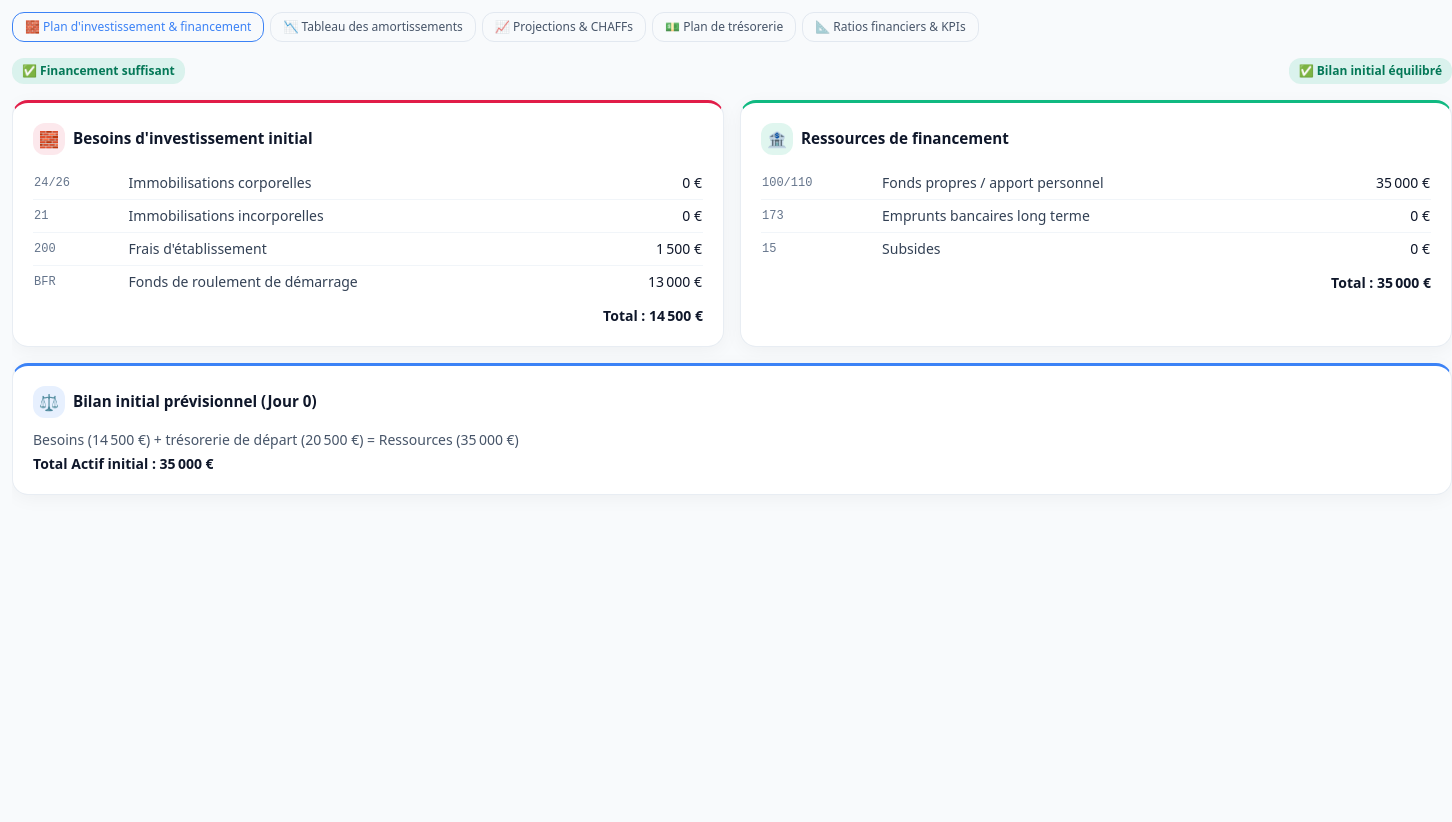
TfeFeasibilityPanel / the tabs › switches to the Partie 2 tabs: CHAFFs, cash-flow, ratios & KPIs
Click the tab with test id "tfe-tab-chaffs".
click(564, 27)  # box [482,12,646,42]
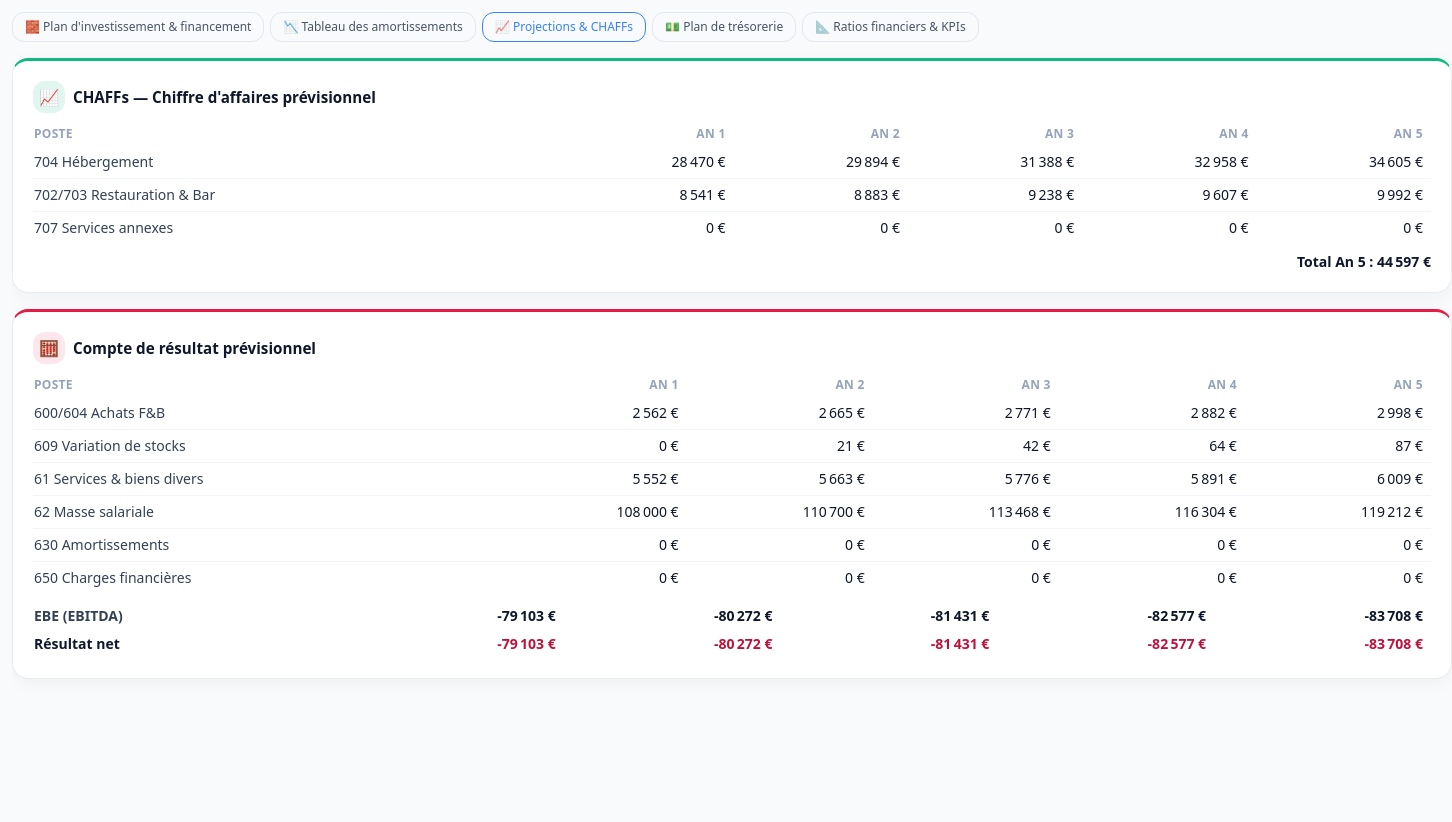
Expected: the element with test id "tfe-chaffs-card" is shown, [12,58,1451,293]
Click the tab with test id "tfe-tab-cashflow".
click(724, 27)  # box [652,12,796,42]
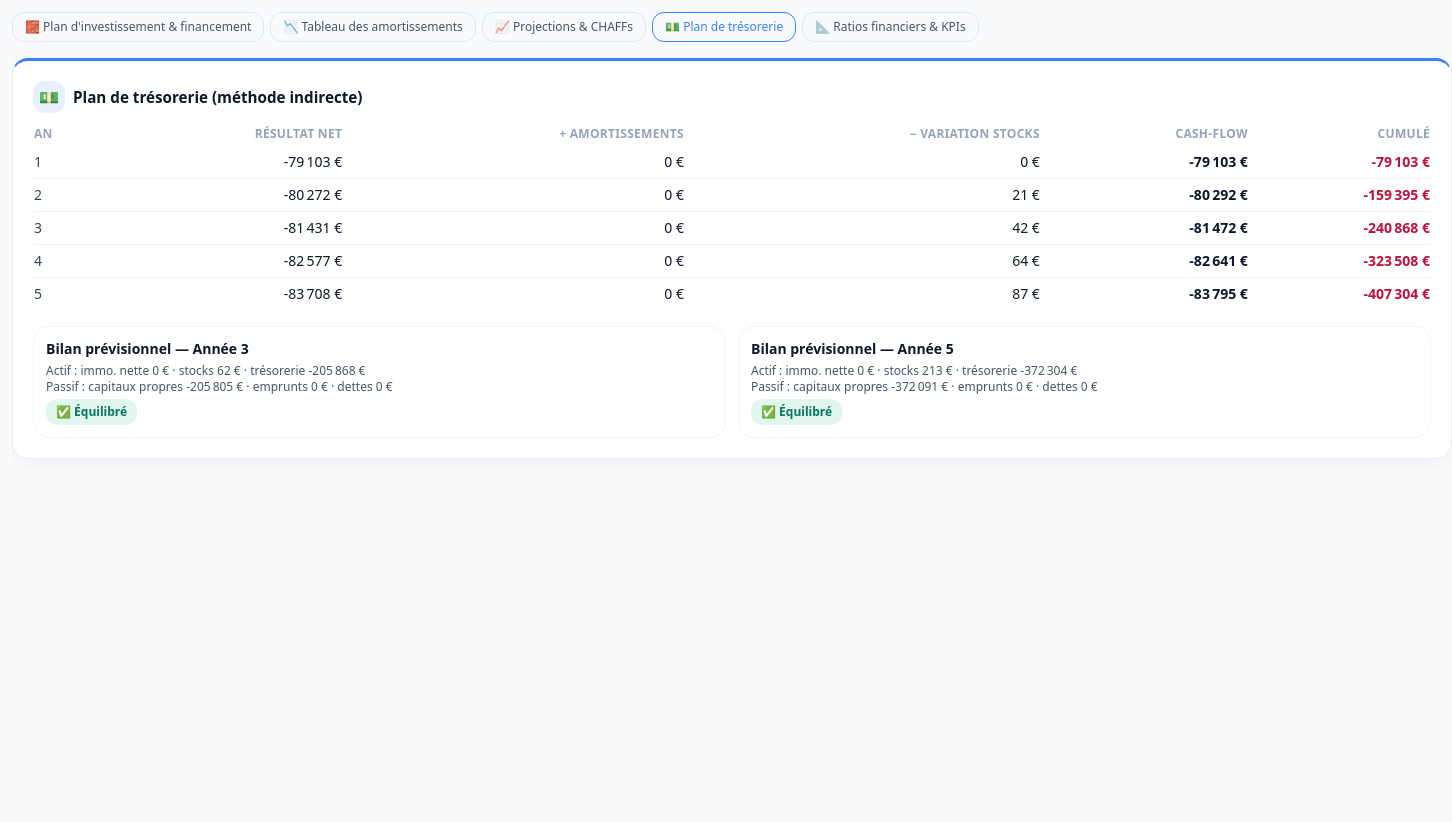
Expected: the element with test id "tfe-cashflow-card" is shown, [12,58,1451,459]
Click the tab with test id "tfe-tab-ratios".
click(890, 27)  # box [802,12,979,42]
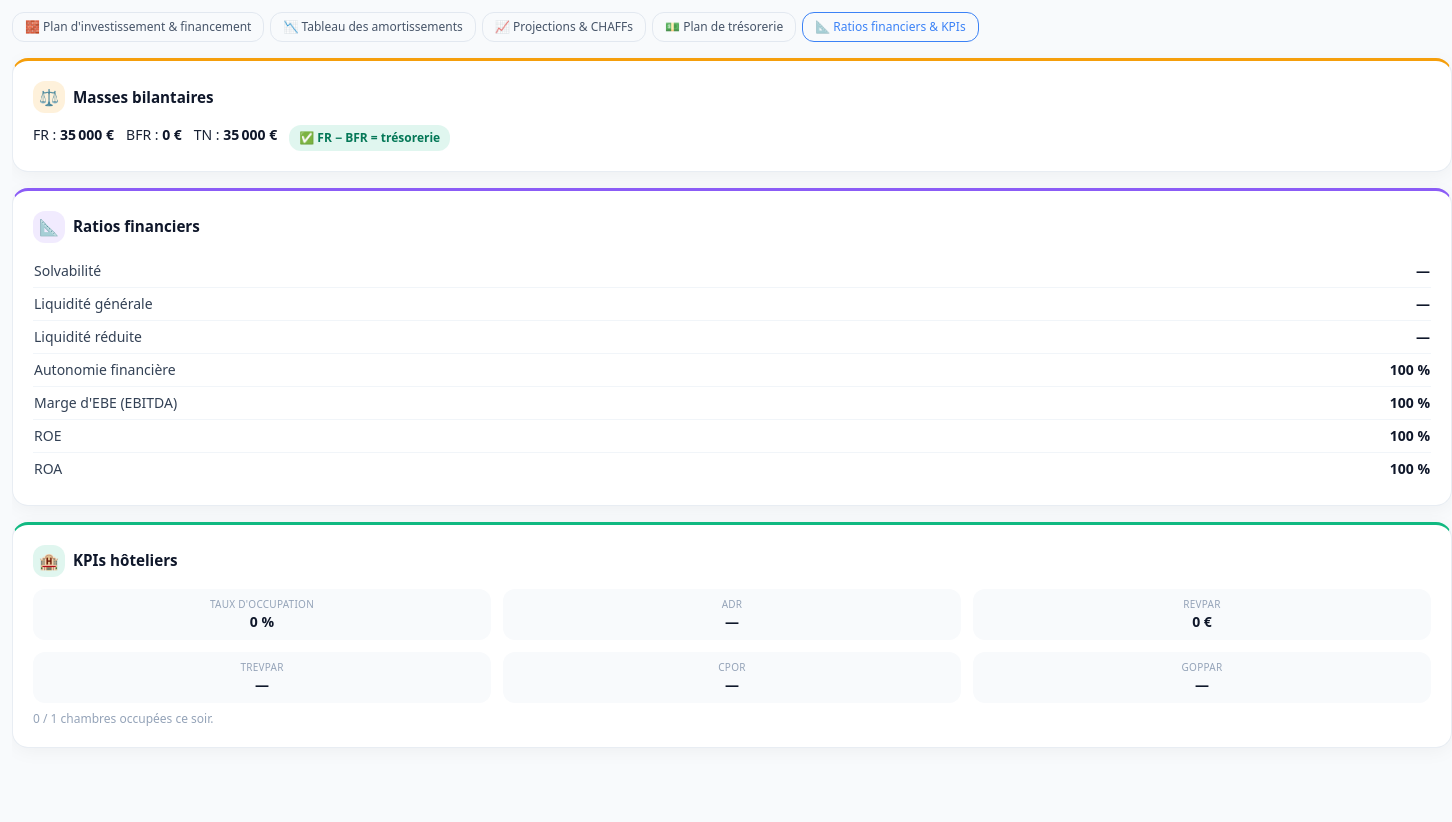
Expected: the element with test id "tfe-ratios-card" is shown, [12,188,1451,506]
